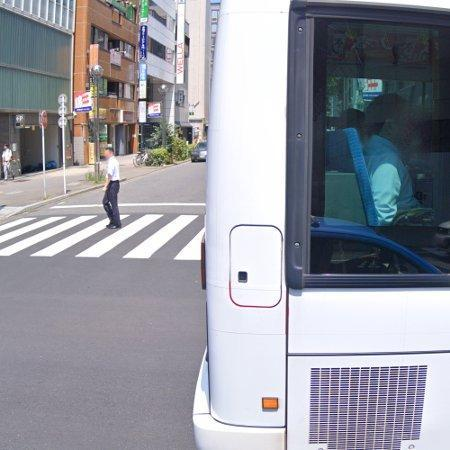crosswalks: (0, 213, 202, 263)
